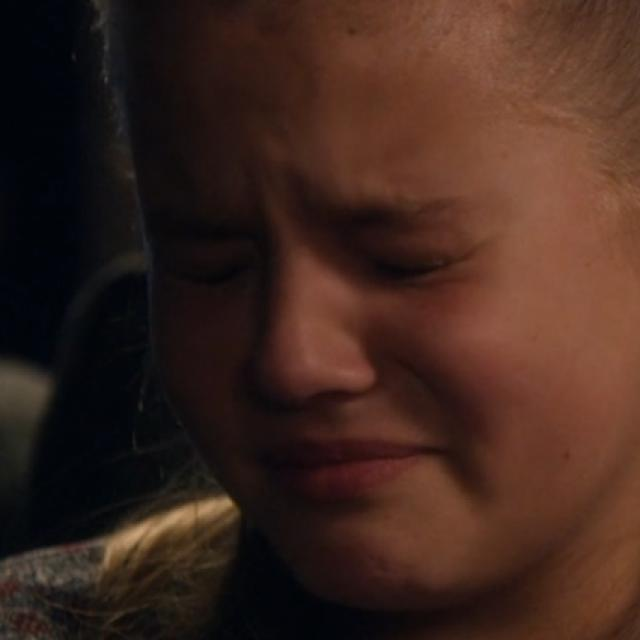Depress: (119, 3, 634, 627)
